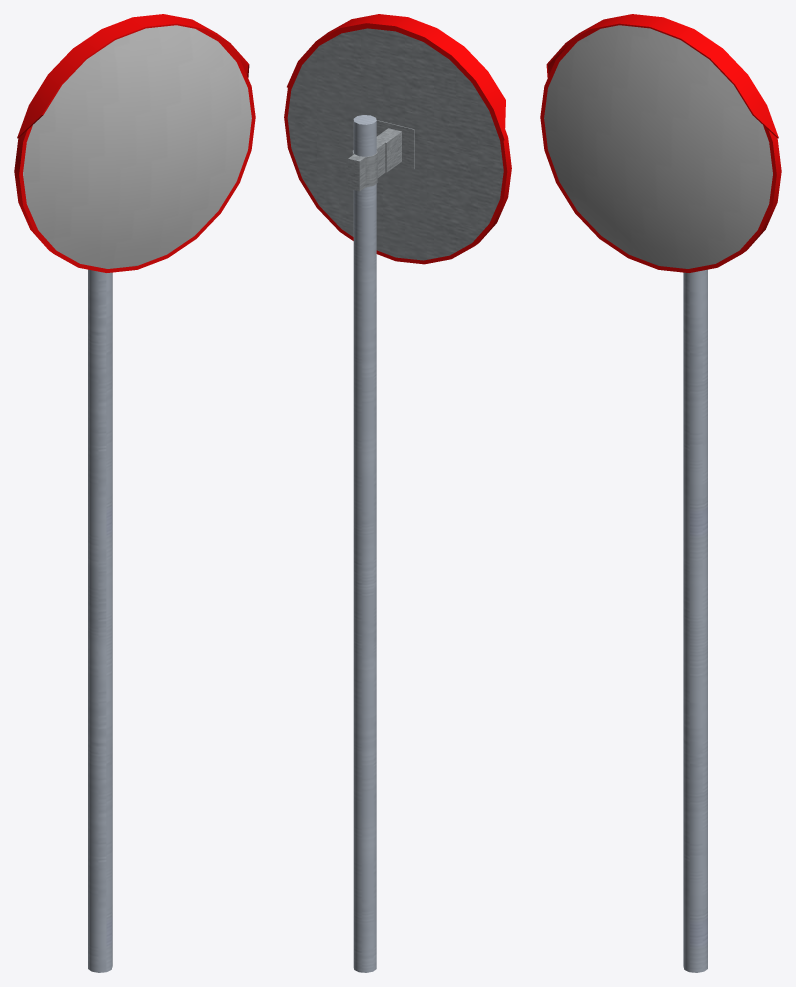
Rendered from 01_Traffic.glb.
3 renders of one model, left to right at view 1: azimuth 30°, elevation 25°; view 2: azimuth 150°, elevation 25°; view 3: azimuth 330°, elevation 25°, orthographic. The views are drawn at different scales.
Parts seen in each view (by area): view 1: 6018735, 6018733, 6018736; view 2: 6018735, 6018733, 6018736, 6018739, 6018737, 6018738; view 3: 6018735, 6018733, 6018736.
Part boxes in pixels (x1,y1,x2,y2): 6018735: [14, 25, 255, 272]; 6018733: [88, 269, 112, 972]; 6018736: [17, 14, 249, 138]; 6018735: [284, 24, 511, 264]; 6018733: [353, 115, 376, 972]; 6018736: [287, 14, 505, 140]; 6018739: [348, 140, 385, 191]; 6018737: [376, 120, 414, 168]; 6018738: [376, 128, 401, 172]; 6018735: [540, 25, 781, 272]; 6018733: [683, 269, 707, 972]; 6018736: [546, 14, 778, 138].
Bounding box in the file's own units: 0.8265 × 3.25 × 0.3507.
311 materials, 186 textured.
